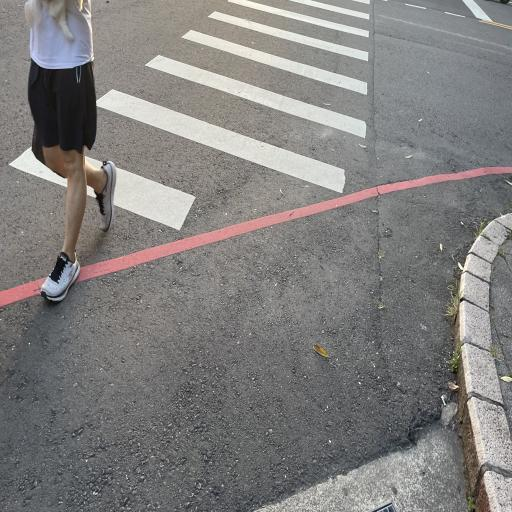redline: (0, 127, 512, 321)
